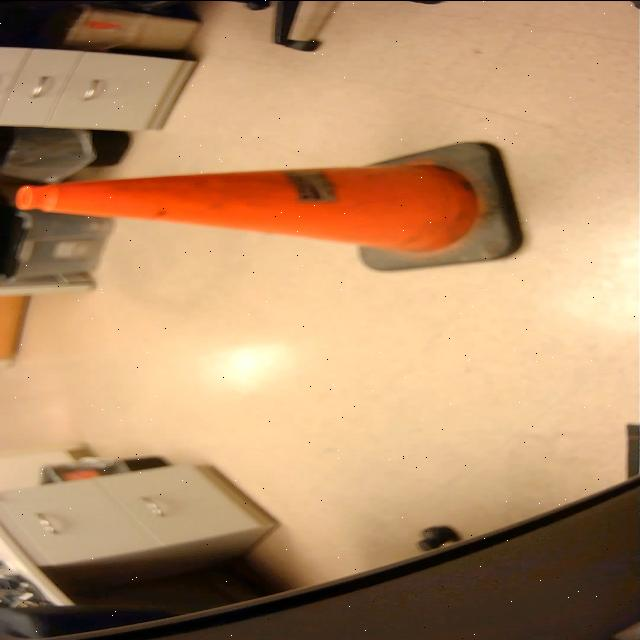traffic cone: (12, 137, 536, 275)
